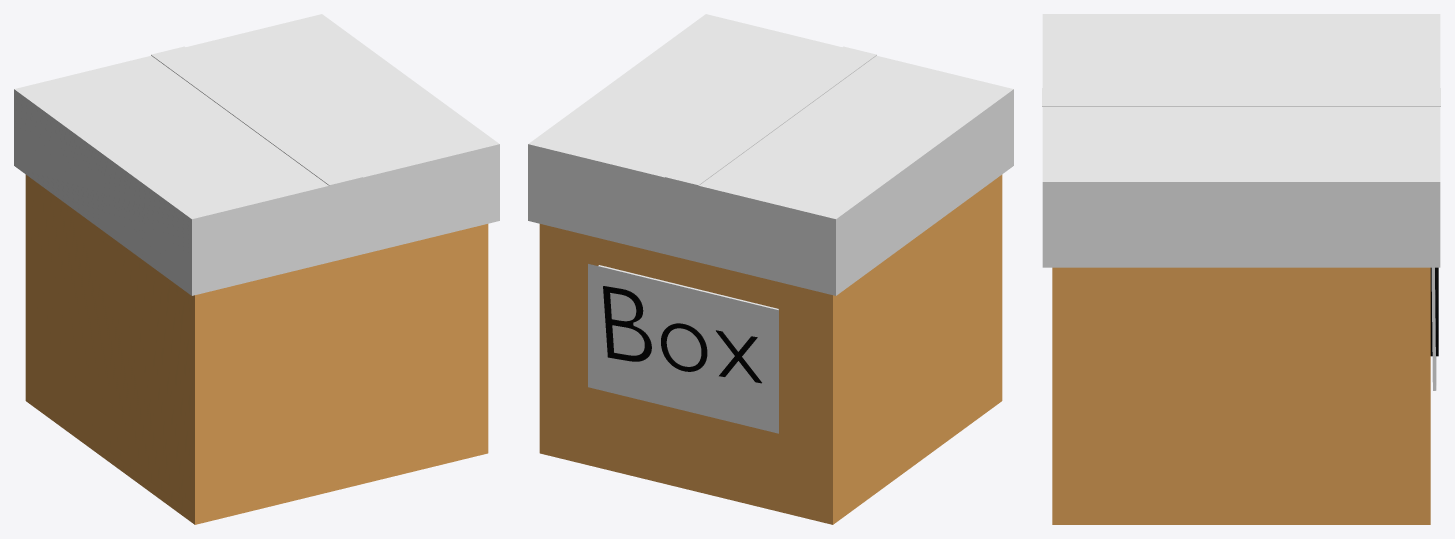
3 renders of one model, left to right at view 1: azimuth 30°, elevation 25°; view 2: azimuth 150°, elevation 25°; view 3: azimuth 270°, elevation 25°, orthographic. The views are drawn at different scales.
Parts seen in each view (by area): view 1: Cube, k; view 2: k, Cube, e, Text; view 3: k, Cube, Text.
Boxes of the visible parts, x1,y1,x2,y2 form: Cube: (25,174,488,524); k: (14,14,499,295); k: (528,14,1013,310); Cube: (539,174,1002,524); e: (588,264,778,433); Text: (603,286,761,383); k: (1042,14,1440,390); Cube: (1052,267,1430,524); Text: (1430,267,1438,356).
Size of the model in its own units: 210 by 203 by 211.
